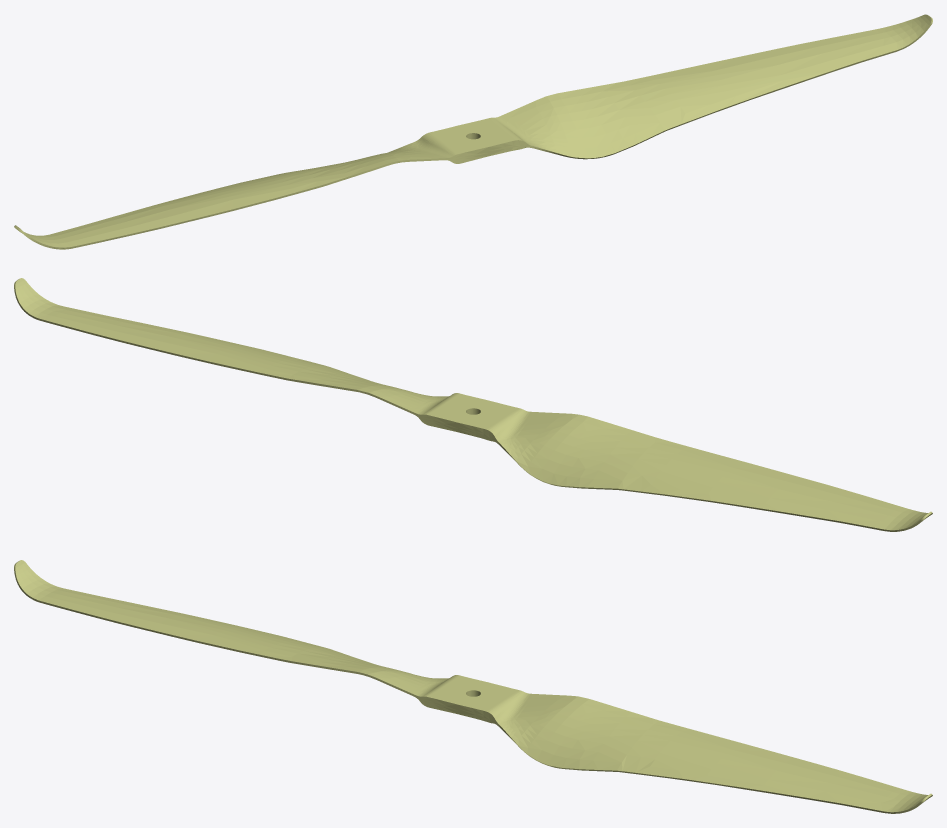
Rendered from case-05_lib00011.glb.
The picture shows the model from 3 angles, top to bottom: view 1: azimuth 30°, elevation 25°; view 2: azimuth 150°, elevation 25°; view 3: azimuth 330°, elevation 25°; orthographic projection. The views are drawn at different scales.
Visible parts, largest first — view 1: lib00011; view 2: lib00011; view 3: lib00011.
Part boxes in pixels (x1,y1,x2,y2): lib00011: [14, 14, 932, 249]; lib00011: [14, 278, 932, 531]; lib00011: [14, 560, 932, 813].
Bounding box in the file's own units: 78 × 3.42 × 8.35.
